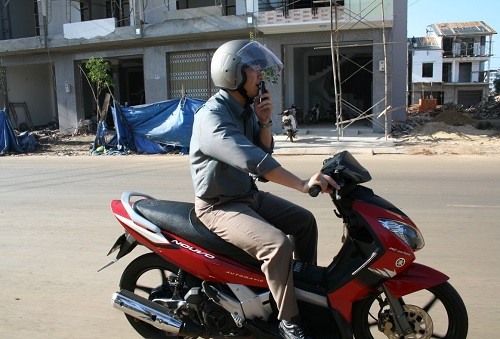dieu khien xe may: (191, 39, 424, 318)
su dung dien thoai: (211, 41, 274, 125)
